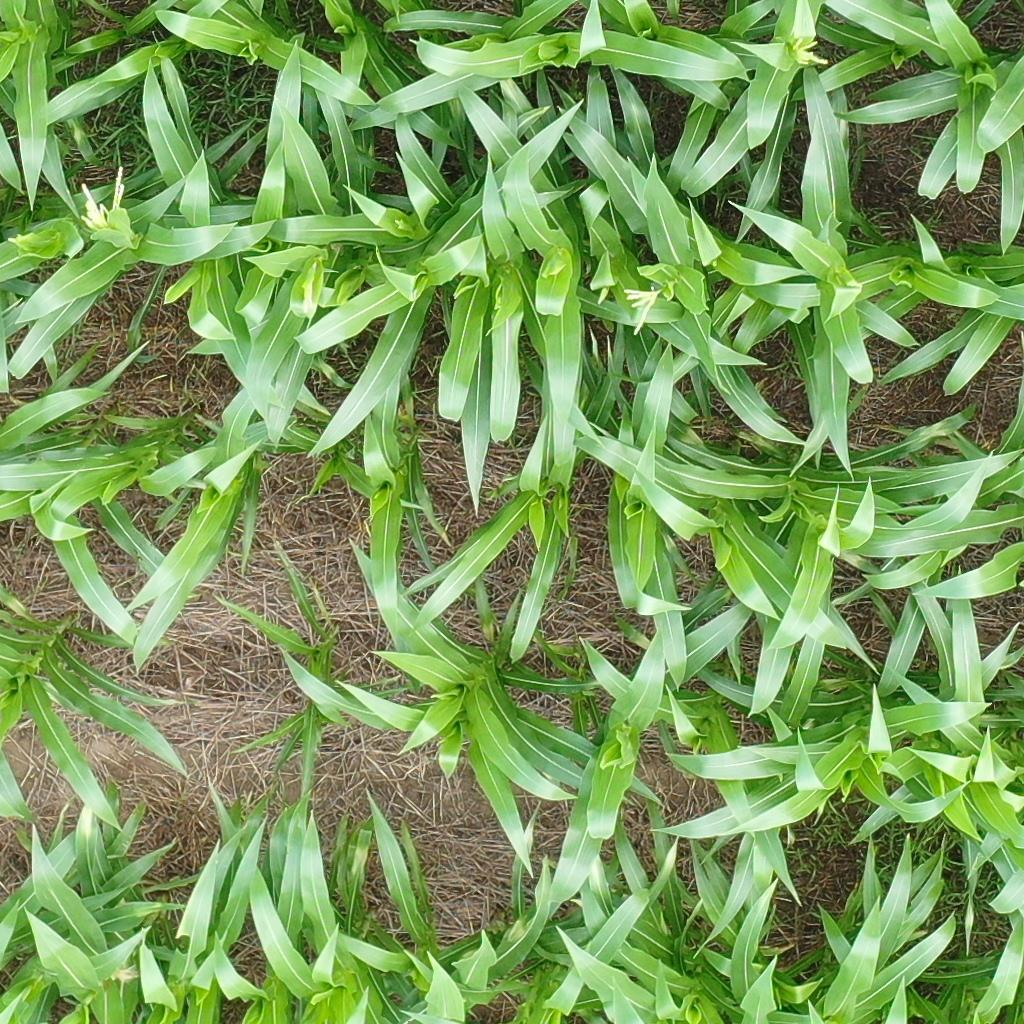Tassel: (78, 164, 131, 235), (623, 284, 667, 336), (787, 37, 826, 69)
